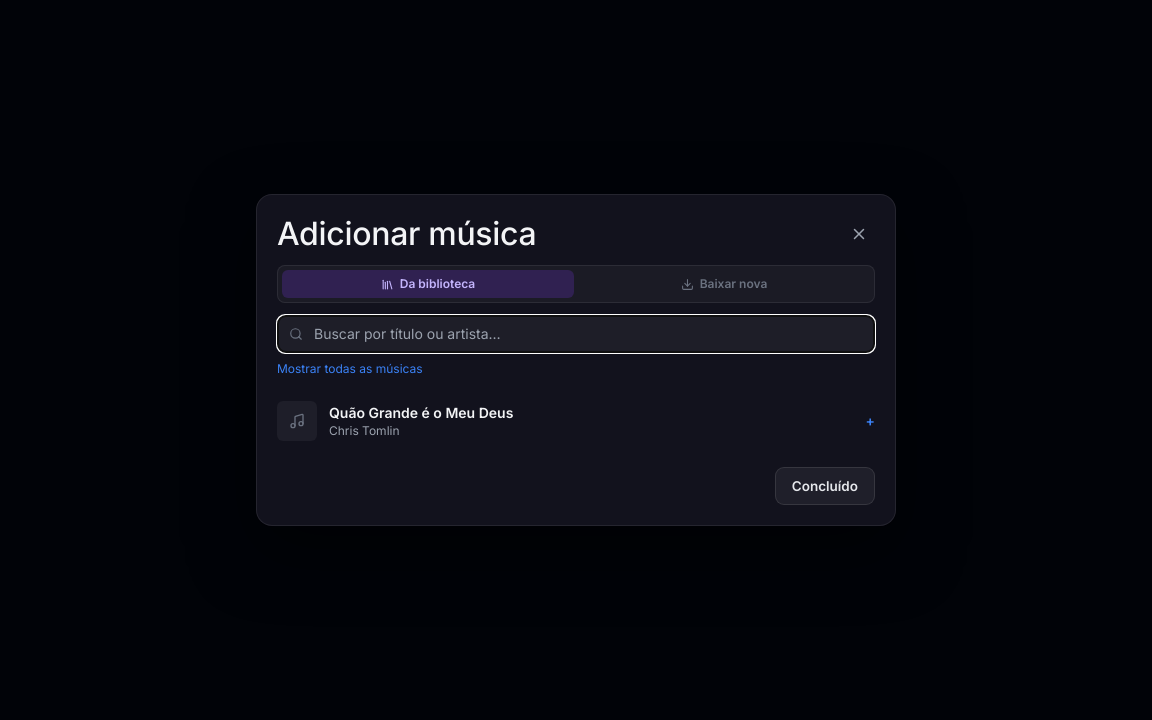
Scenario: AddSongToPlaylistModal › erro "already_in_section" mostra mensagem específica
Click the text "Quão Grande é o Meu Deus" at (421, 413), box [329, 404, 513, 421]
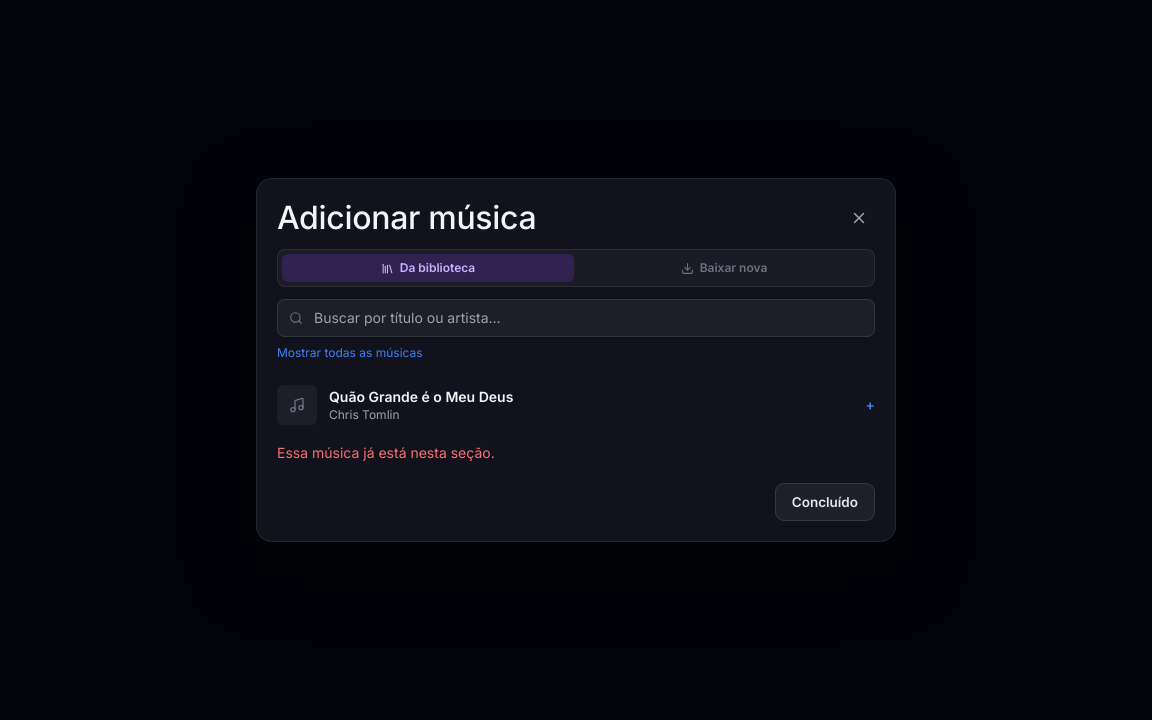
Expected: the text "Essa música já está nesta seção." is shown, [277, 444, 495, 461]
